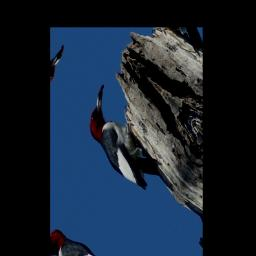Woodpecker: (82, 83, 184, 220)
